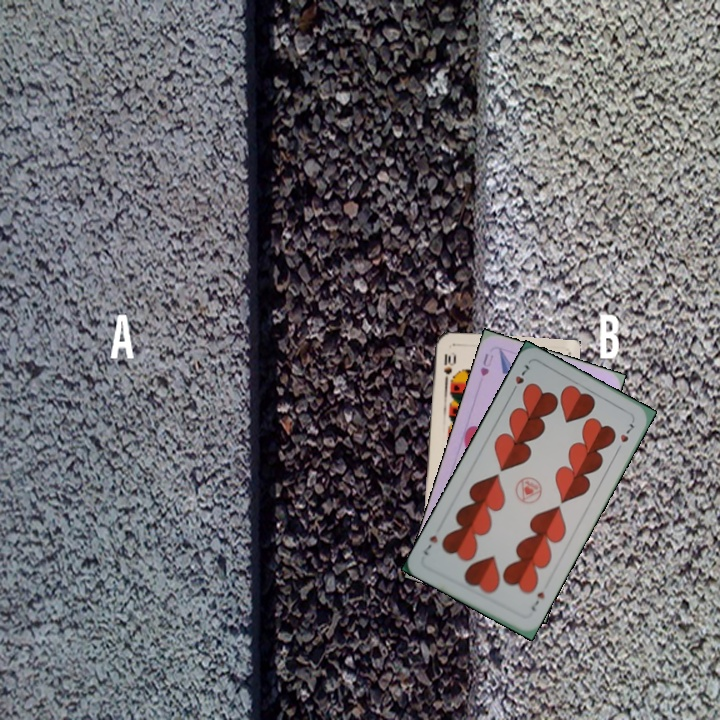H7: (507, 360, 532, 397), (526, 588, 547, 614)
HU: (476, 349, 496, 379)
S10: (440, 348, 456, 385)
